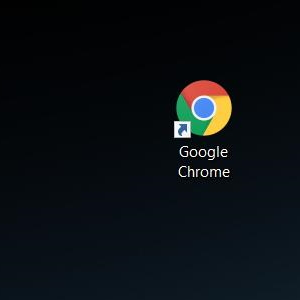chrome: (172, 80, 232, 139)
